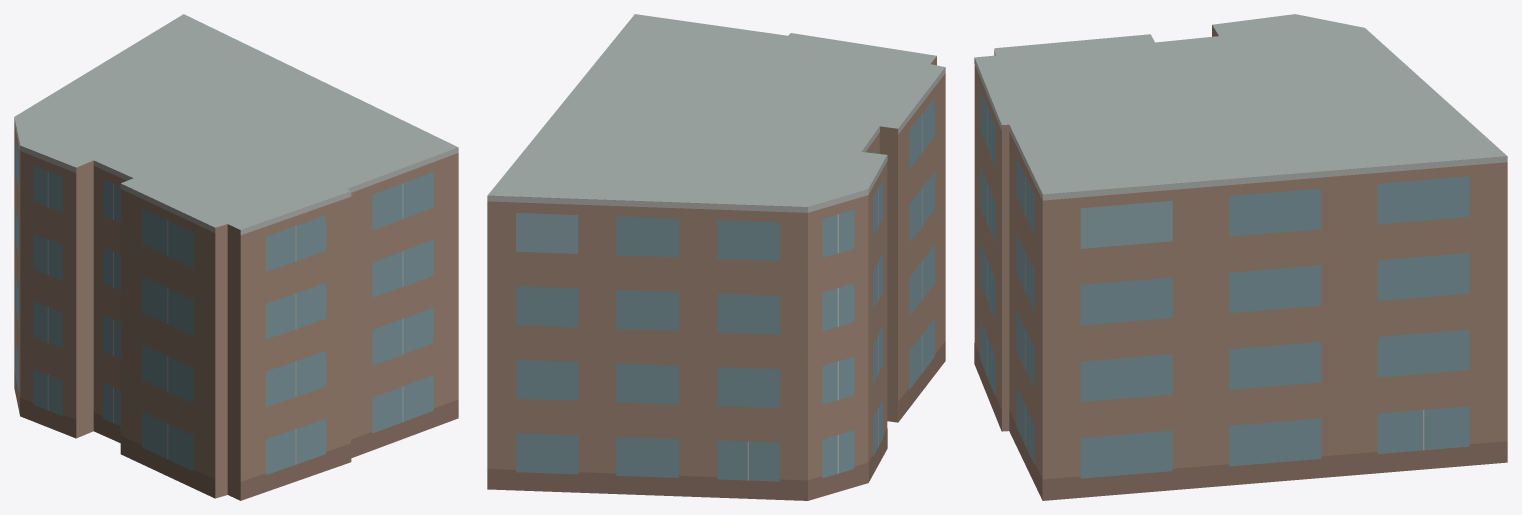
Rendered from survey-upis-32821080.glb.
3 views of the same model, side by side, from view 1: azimuth 30°, elevation 25°; view 2: azimuth 150°, elevation 25°; view 3: azimuth 270°, elevation 25° (orthographic). The views are drawn at different scales.
Parts seen in each view (by area): view 1: survey-upis-32821080.tmp; view 2: survey-upis-32821080.tmp; view 3: survey-upis-32821080.tmp.
Boxes of the visible parts, bbox=[...] form: survey-upis-32821080.tmp: bbox=[14, 14, 458, 500]; survey-upis-32821080.tmp: bbox=[487, 14, 945, 500]; survey-upis-32821080.tmp: bbox=[974, 14, 1507, 500].
Size of the model in its own units: 15.42 by 12.2 by 19.24.
